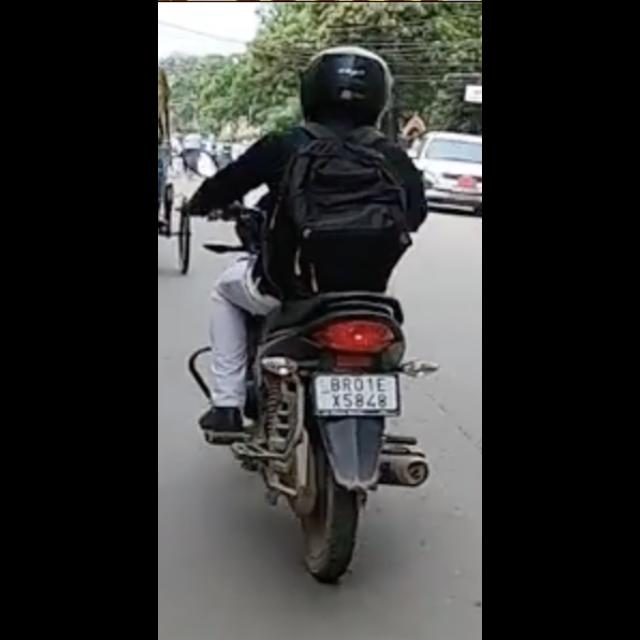with helmet: (302, 48, 392, 122)
